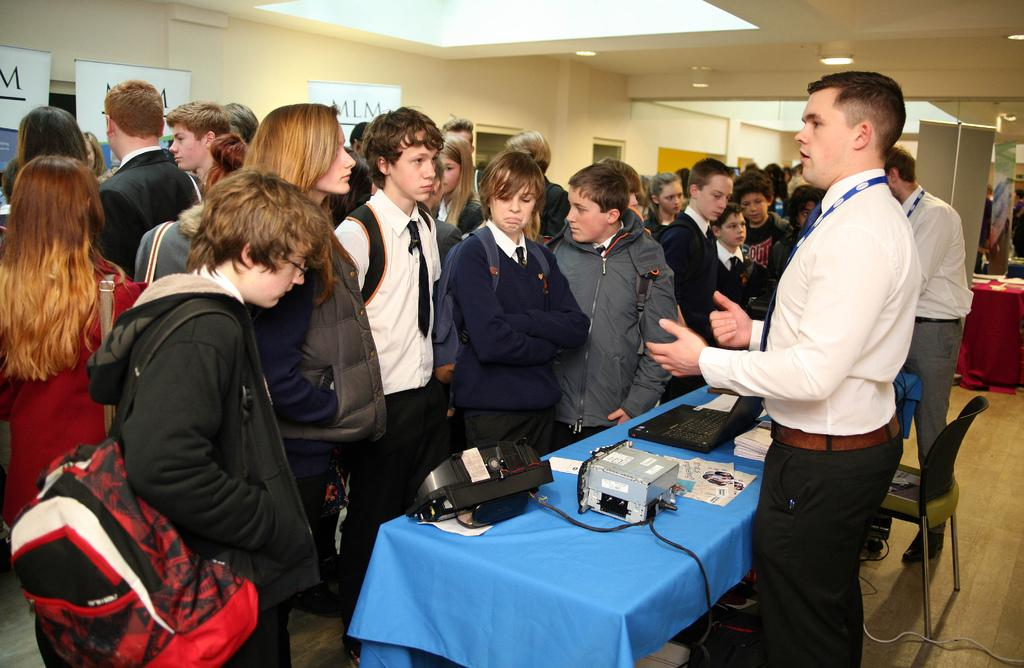Luggage-and-bags: (29, 473, 257, 659), (430, 225, 547, 368), (341, 200, 430, 306), (92, 270, 120, 440), (144, 218, 177, 281)
